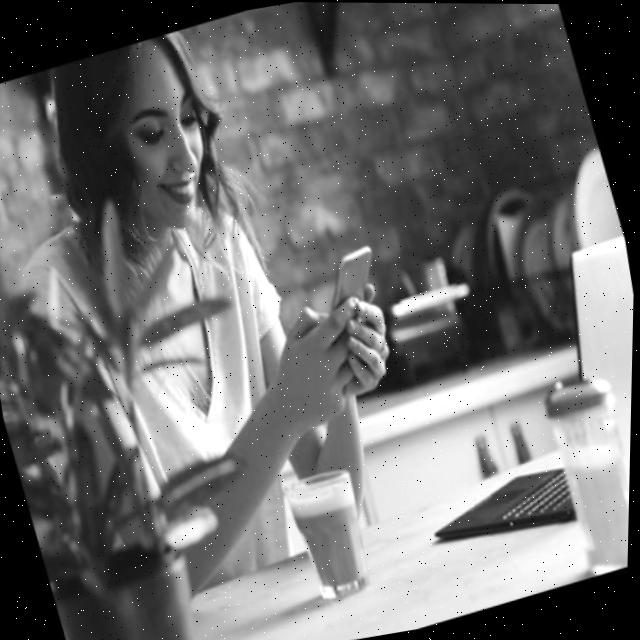phone: (315, 241, 389, 314)
